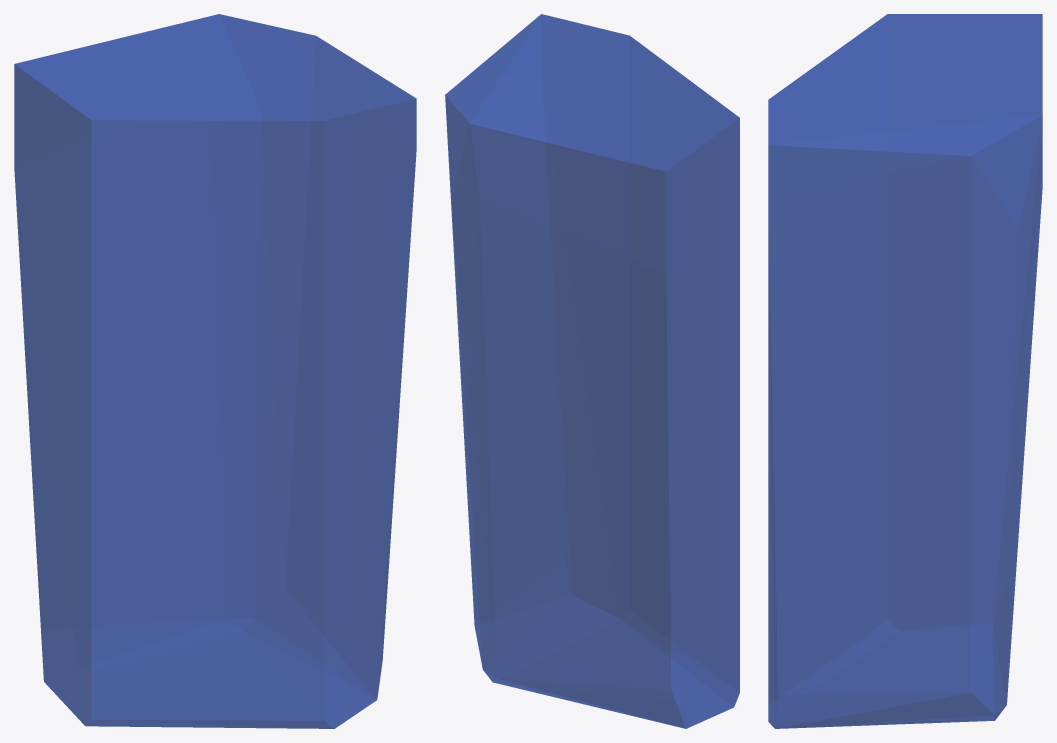
The picture shows the model from 3 angles, left to right: view 1: azimuth 30°, elevation 25°; view 2: azimuth 150°, elevation 25°; view 3: azimuth 270°, elevation 25°; orthographic projection. The views are drawn at different scales.
Visible parts, largest first — view 1: Shape_IndexedFaceSet.019_Shape_IndexedFaceSet.16001; view 2: Shape_IndexedFaceSet.019_Shape_IndexedFaceSet.16001; view 3: Shape_IndexedFaceSet.019_Shape_IndexedFaceSet.16001.
Boxes of the visible parts, x1=… form: Shape_IndexedFaceSet.019_Shape_IndexedFaceSet.16001: x1=14, y1=14, x2=416, y2=728; Shape_IndexedFaceSet.019_Shape_IndexedFaceSet.16001: x1=445, y1=14, x2=739, y2=728; Shape_IndexedFaceSet.019_Shape_IndexedFaceSet.16001: x1=768, y1=14, x2=1042, y2=728.
Bounding box in the file's own units: 0.0899 × 0.197 × 0.0795.
